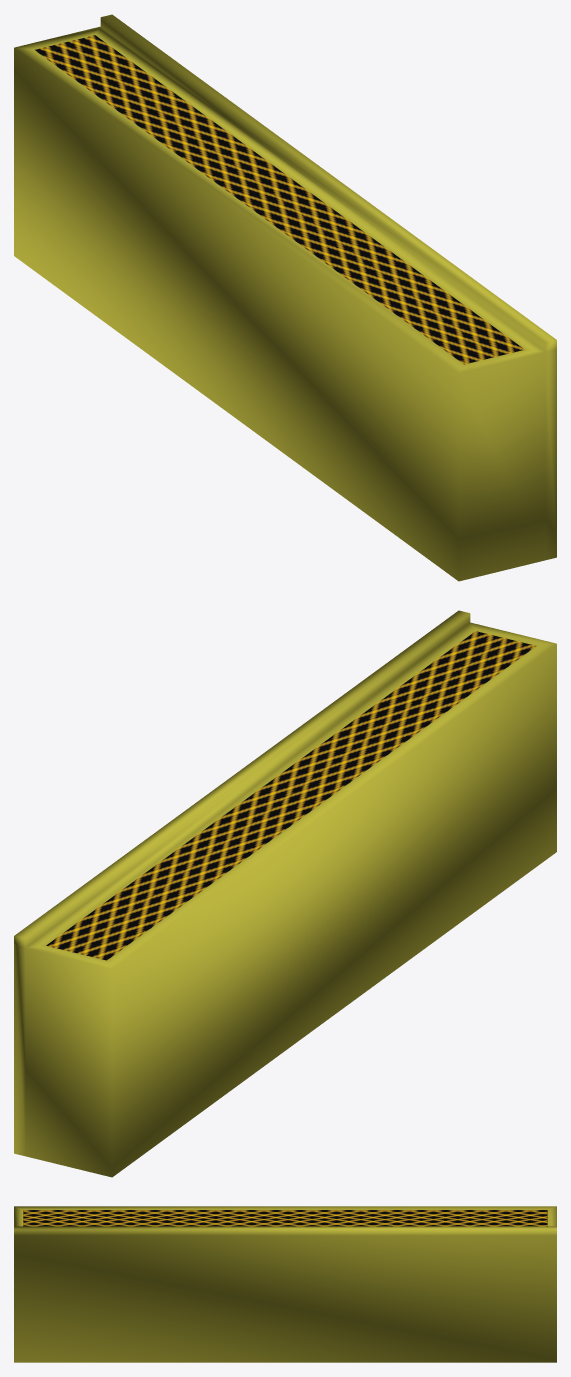
The model's file is heater.fbx.
The picture shows the model from 3 angles, top to bottom: view 1: azimuth 30°, elevation 25°; view 2: azimuth 150°, elevation 25°; view 3: azimuth 270°, elevation 25°; orthographic projection. The views are drawn at different scales.
Parts seen in each view (by area): view 1: Cube.005; view 2: Cube.005; view 3: Cube.005.
Part boxes in pixels (x1,y1,x2,y2): Cube.005: [14, 14, 556, 581]; Cube.005: [14, 610, 556, 1177]; Cube.005: [14, 1206, 556, 1362].
Bounding box in the file's own units: 0.3607 × 0.7632 × 2.83.
2 materials, 1 textured.
